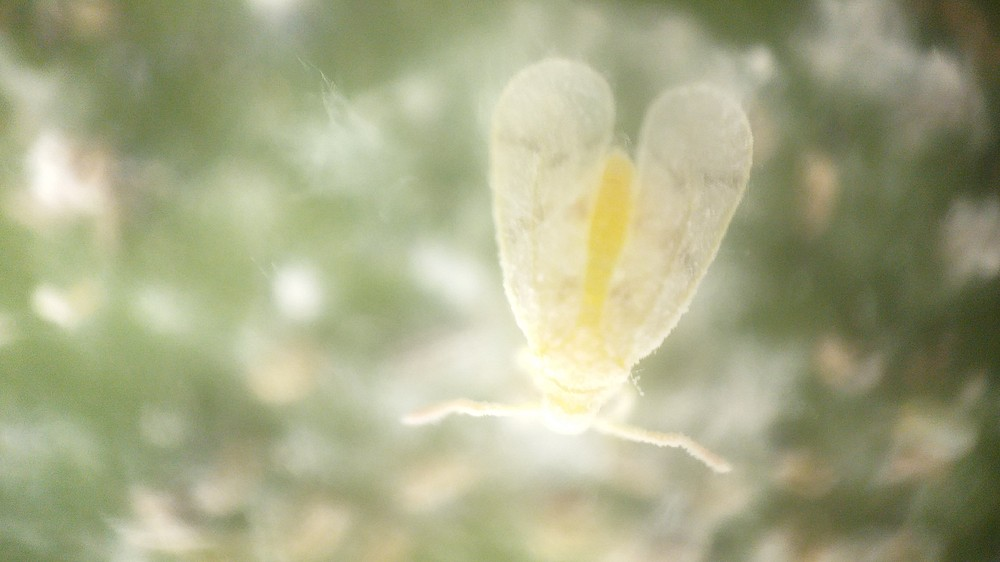Mosca Blanca: (391, 39, 760, 506)
